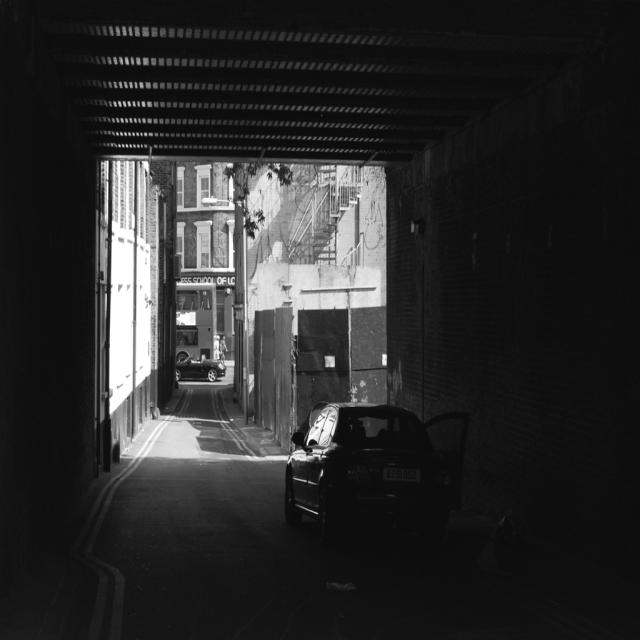car: (283, 396, 464, 539), (174, 354, 223, 381)
